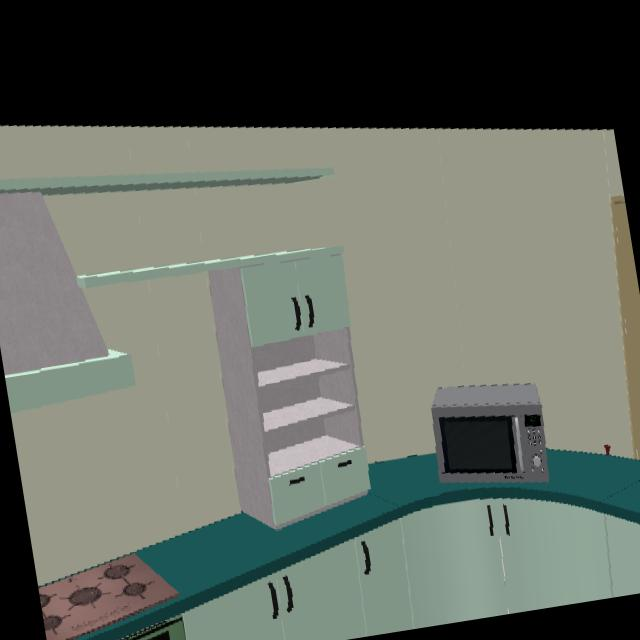cabinet: (181, 498, 640, 640), (208, 247, 372, 532)
countertop: (71, 450, 640, 640)
microwave: (432, 385, 550, 486)
stove: (38, 555, 179, 640)
